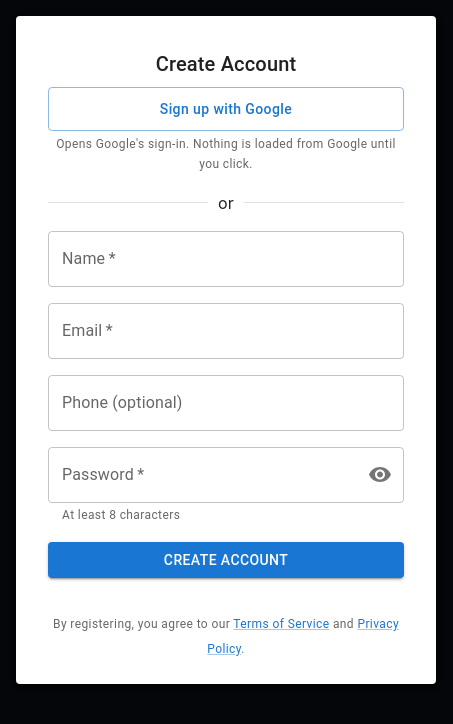
Test: invalid input is explained under each field and never reaches the server
The image size is (453, 724).
Type "Sam" into the field labelled "Name *" at (226, 259), box [48,231,404,287]
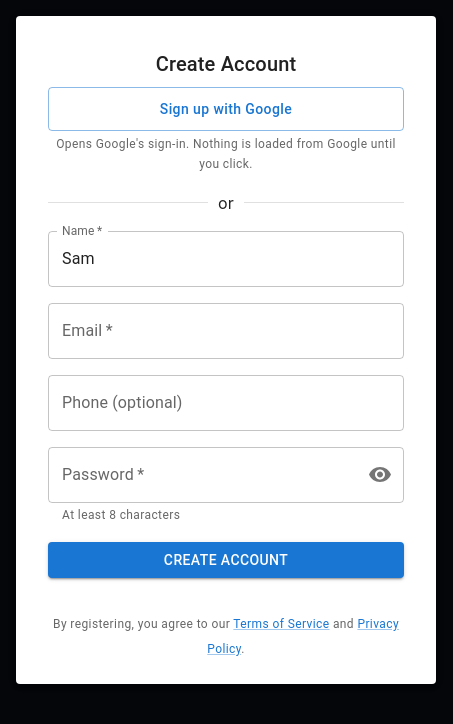
Type "not-an-email" into the field labelled "Email *" at (226, 331), box [48,303,404,359]
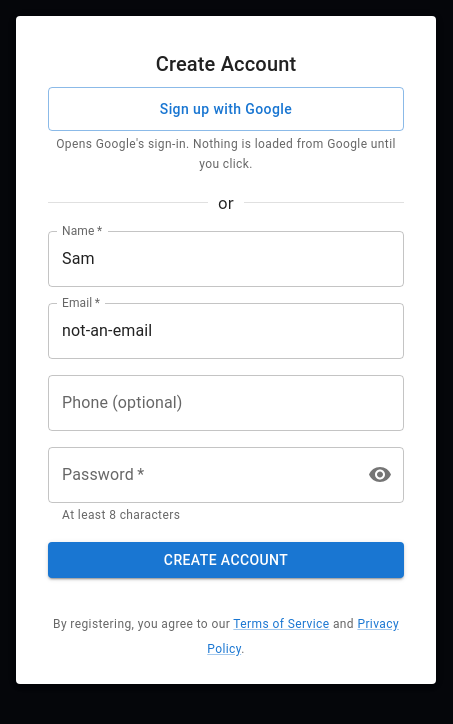
Type "abc" into the password field labelled "Password *" at (199, 475), box [48,447,350,503]
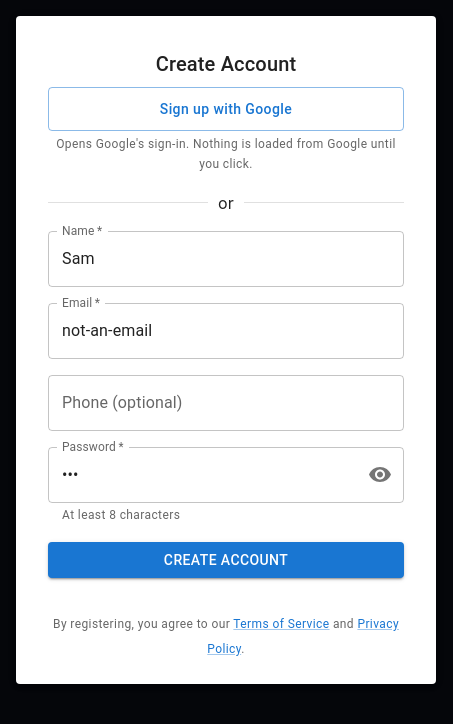
Click the button "Create Account" at (226, 560), box [48,542,404,578]
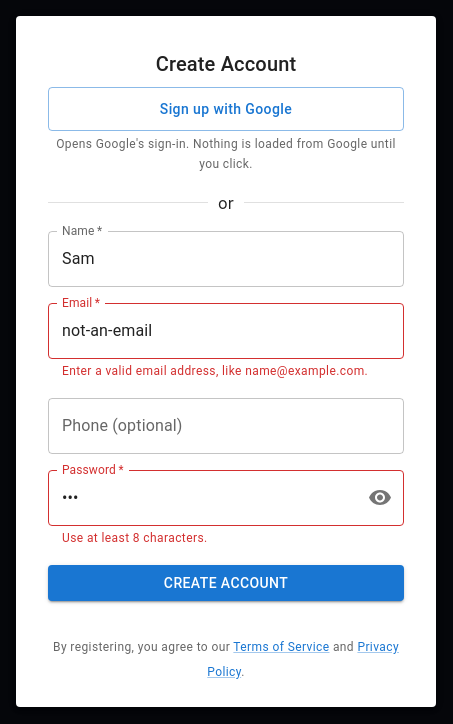
Now the text "Enter a valid email address, like name@example.com." is shown, box [62,362,390,382]
Now the text "Use at least 8 characters." is shown, box [62,531,208,545]
